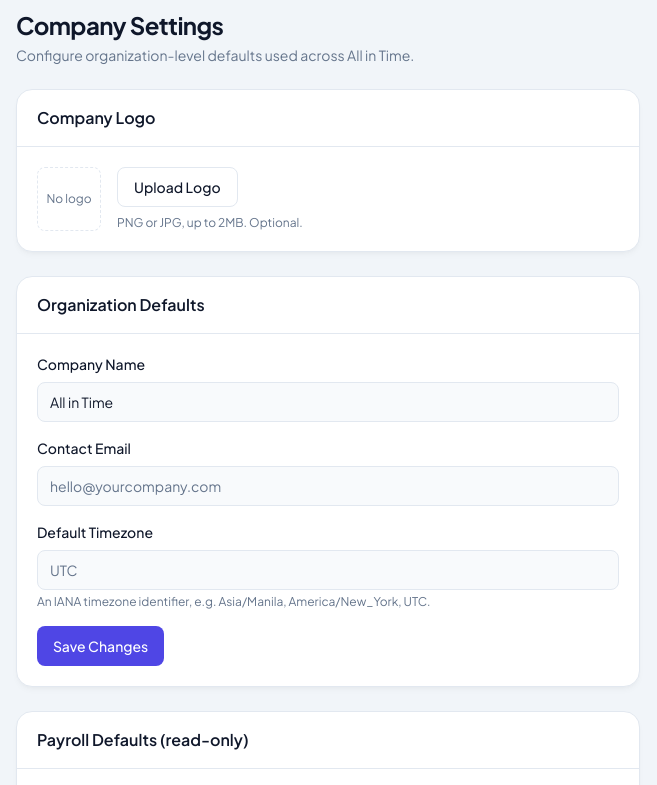
Test: CompanySettingsPage › saves updated settings and refreshes shared branding
The width and height of the screenshot is (657, 785).
Type "Acme Corp" into the field showing "All in Time" at (328, 402), box [37,382,619,422]
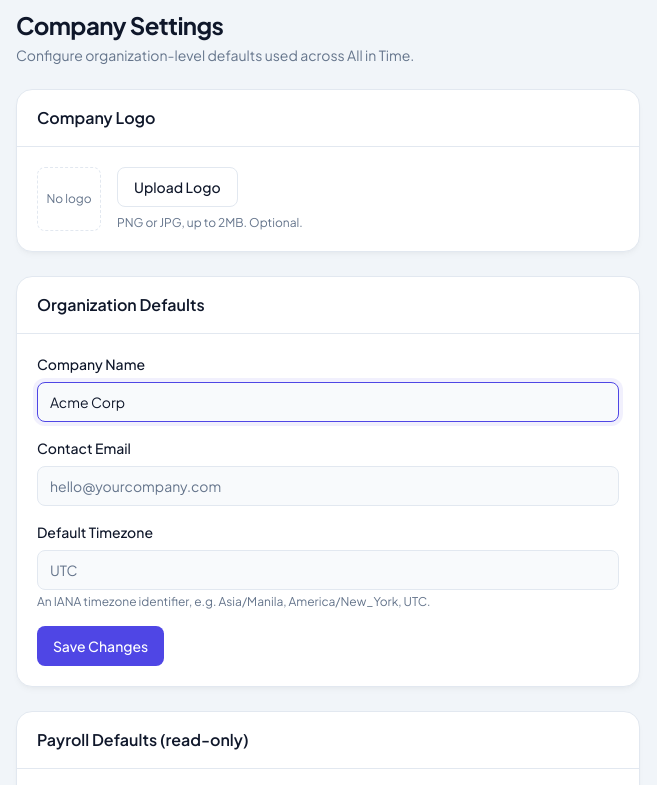
Click the button "Save Changes" at (101, 646), box [37,626,164,666]
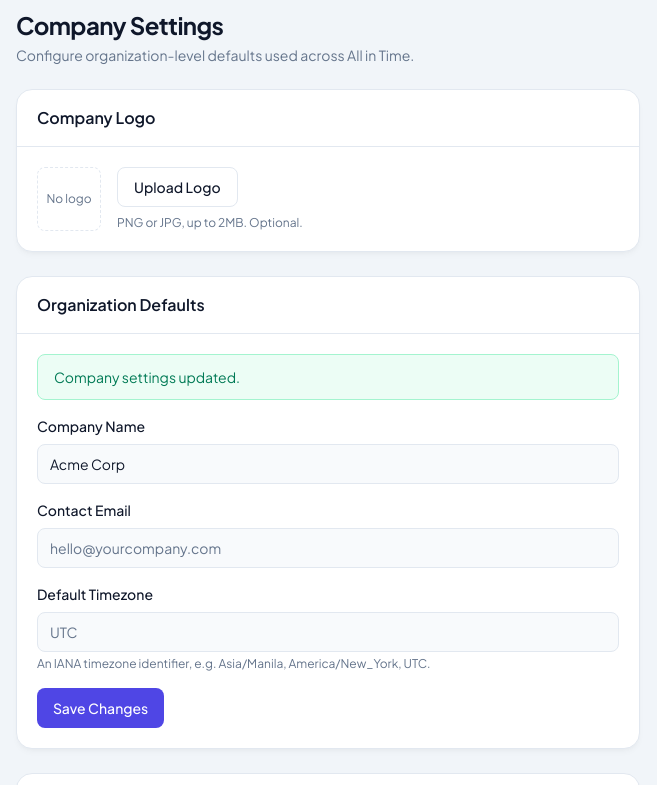
Expected: the text "Company settings updated." is shown, [37,354,619,400]
